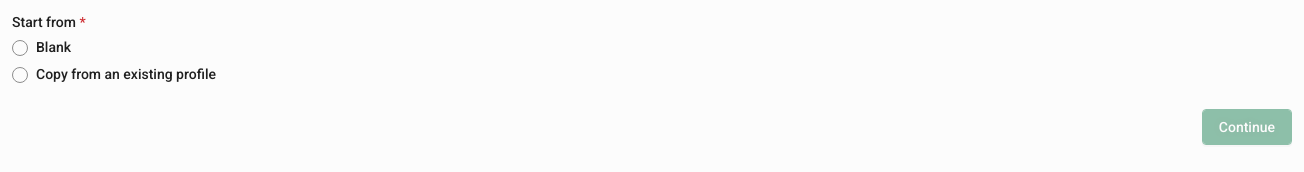
StartChooser › blank enables Continue and starts a blank profile
Later steps or results of the test are not shown.
Click the radio button named "Blank" next to "Blank" at (20, 48), box [12,40,28,56]
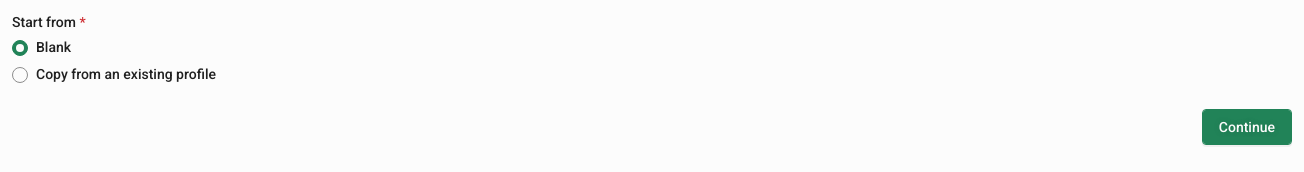
Expected: the button "Continue" is enabled, [1202,108,1292,144]
